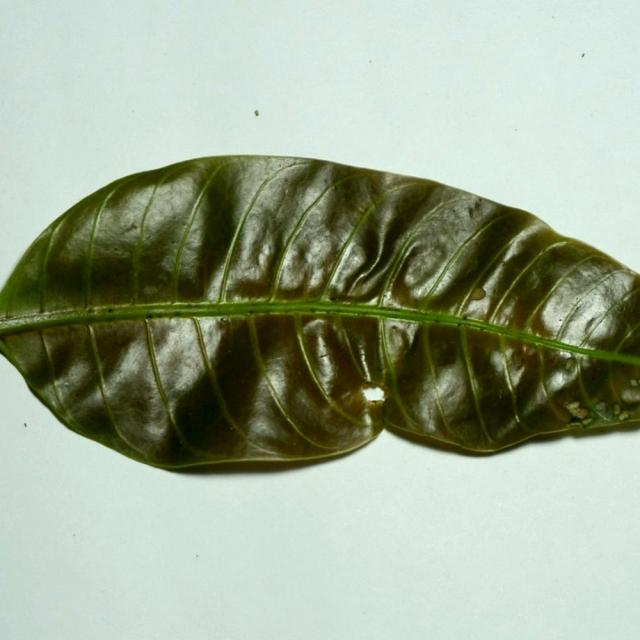Anthracnose: (360, 368, 387, 415)
Mango: (0, 156, 639, 479)
